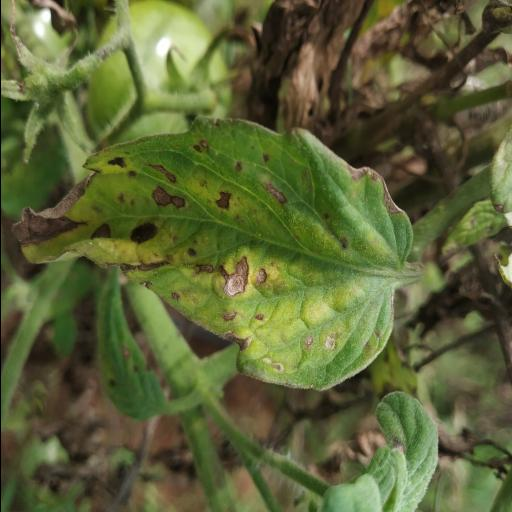disease_tomato: (8, 114, 414, 390)
